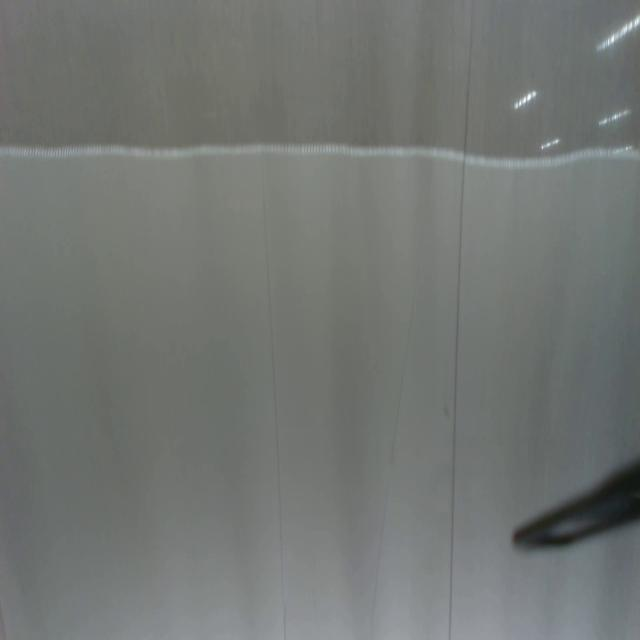crease: (446, 20, 480, 640), (368, 248, 422, 636), (257, 151, 289, 640)
hole: (442, 401, 450, 420)
